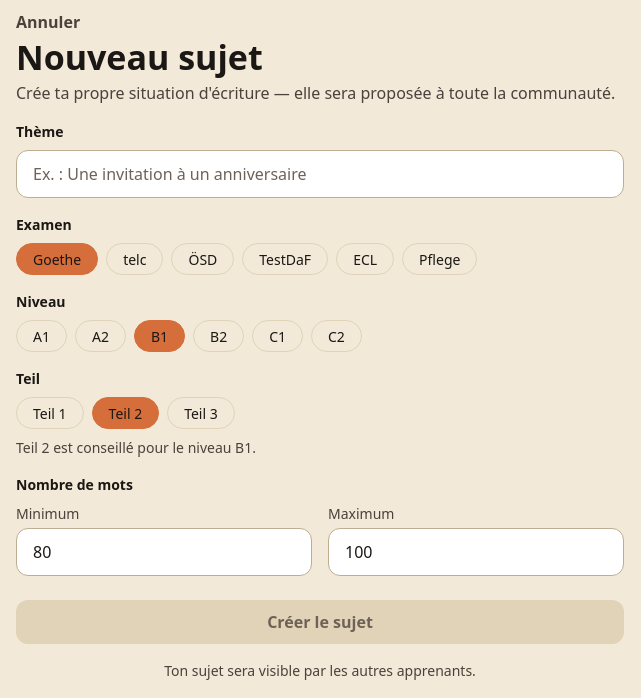
it: CustomPromptScreen — community prompt authoring (S6 Task 6.7) › server error code some_unmapped_code renders its mapped copy
Type "Eine Einladung" into the field with placeholder "Ex. : Une invitation à un anniversaire" at coordinates (320, 174), box [16,150,624,198]
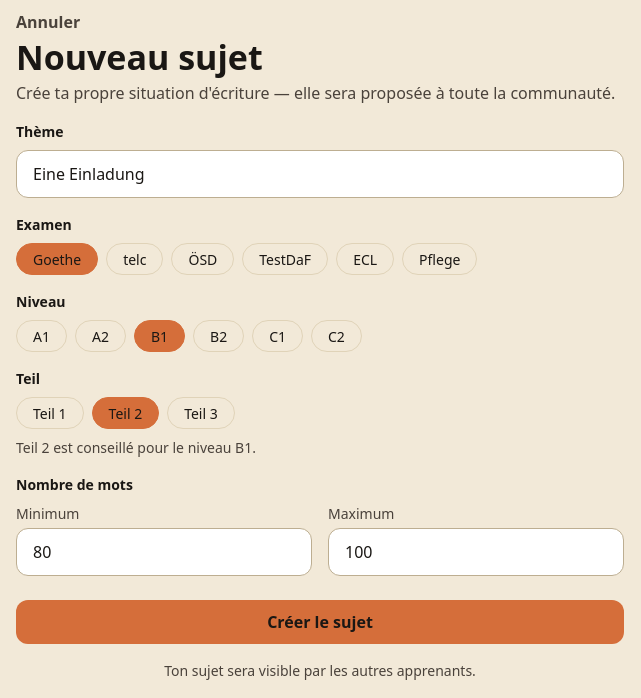
Click the button with test id "schreiben-custom-prompt-submit" at coordinates (320, 622), box [16,600,624,644]
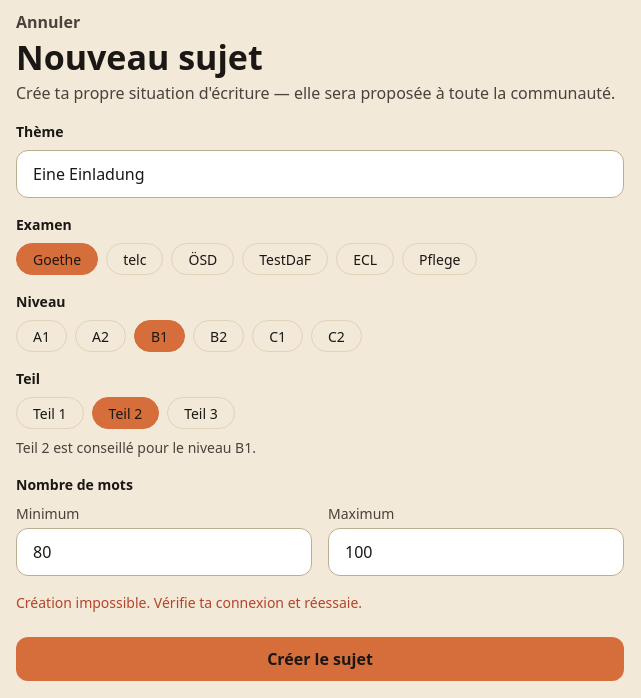
Now the message with test id "schreiben-custom-prompt-error" reads "Création impossible. Vérifie ta connexion et réessaie.", box [16,593,362,612]
